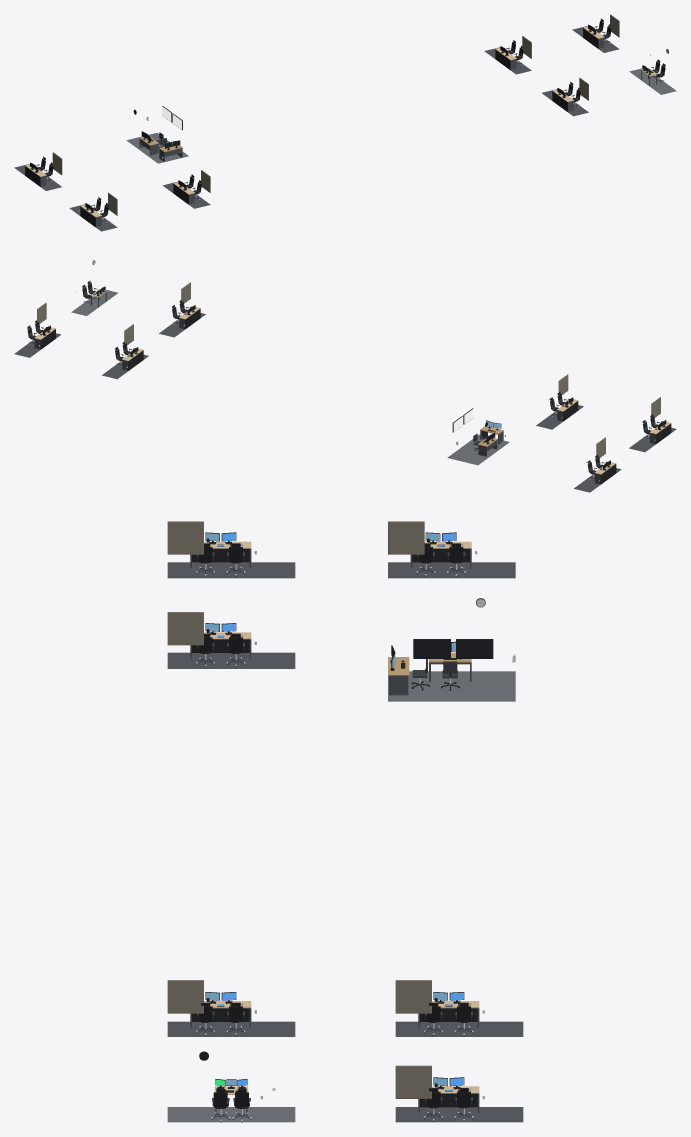
File: 23_n2_control_y_observacion.glb
3 renders of one model, top to bottom at view 1: azimuth 30°, elevation 25°; view 2: azimuth 150°, elevation 25°; view 3: azimuth 270°, elevation 25°, orthographic. The views are drawn at different scales.
Visible parts, largest first — view 1: mesa_gesell_200 (×6), piso · Coordinación del examen OSCE, piso · Control de hemodinamia; view 2: piso · Coordinación del examen OSCE, piso · Control de hemodinamia; view 3: panel_acustico (×6), mesa_gesell_200 (×6), piso · Coordinación del examen OSCE, piso · Cabina Gesell.004, piso · Cabina Gesell.006, piso · Cabina Gesell.005, piso · Cabina Gesell.023, piso · Control de hemodinamia, piso · Cabina Gesell.021, piso · Cabina Gesell.022.
Boxes of the visible parts, box(x1,y1,x2,y2) form: mesa_gesell_200 (×6): box(25, 24, 604, 227); piso · Coordinación del examen OSCE: box(126, 133, 188, 163); piso · Control de hemodinamia: box(629, 68, 676, 94); piso · Coordinación del examen OSCE: box(447, 434, 509, 465); piso · Control de hemodinamia: box(71, 289, 118, 315); panel_acustico (×6): box(167, 521, 431, 1098); mesa_gesell_200 (×6): box(190, 532, 479, 1112); piso · Coordinación del examen OSCE: box(388, 671, 515, 701); piso · Cabina Gesell.004: box(167, 562, 295, 578); piso · Cabina Gesell.006: box(388, 562, 515, 578); piso · Cabina Gesell.005: box(167, 652, 295, 668); piso · Cabina Gesell.023: box(395, 1107, 523, 1122); piso · Control de hemodinamia: box(167, 1107, 295, 1122); piso · Cabina Gesell.021: box(167, 1021, 295, 1036); piso · Cabina Gesell.022: box(395, 1021, 523, 1036).
Size of the model in its own units: 43.66 by 2.66 by 11.7.
27 materials, 4 textured.
